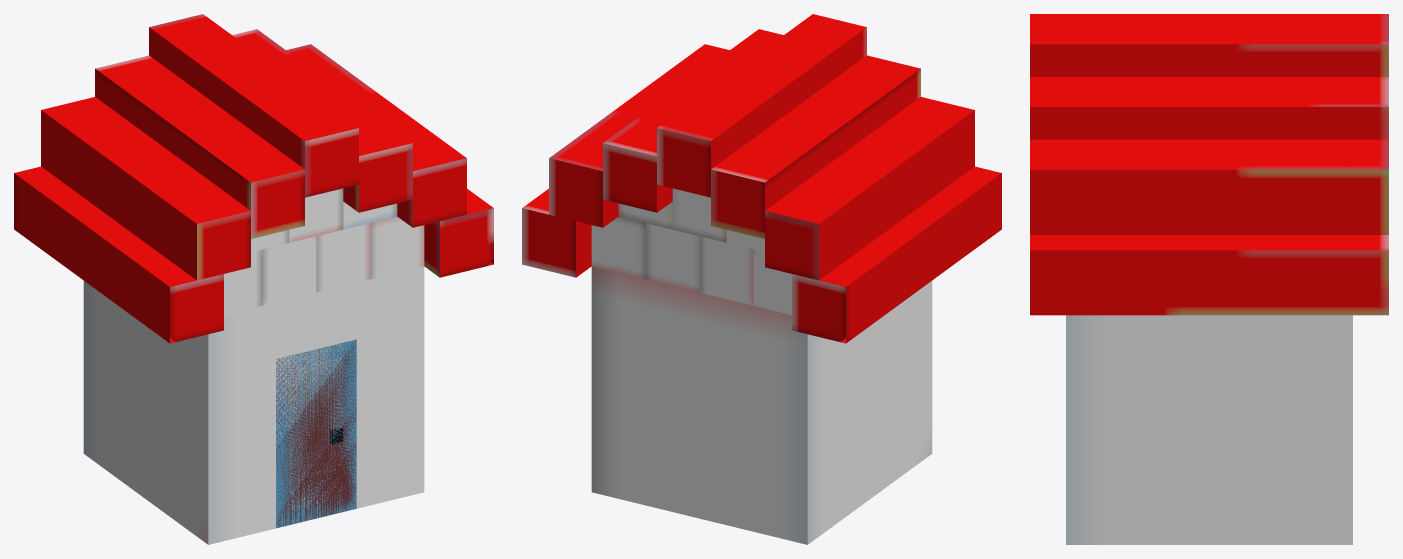
File: house.fbx
3 renders of one model, left to right at view 1: azimuth 30°, elevation 25°; view 2: azimuth 150°, elevation 25°; view 3: azimuth 270°, elevation 25°, orthographic. The views are drawn at different scales.
Visible parts, largest first — view 1: cube, cube_2, cube_1, cube_3, cube_7, cube_15, cube_4, cube_5, cube_6, cube_9, cube_10, cube_8 (+3 smaller); view 2: cube, cube_2, cube_1, cube_3, cube_7, cube_4, cube_5, cube_6, cube_9, cube_10, cube_8, cube_14 (+2 smaller); view 3: cube, cube_5, cube_6, cube_4, cube_7.
Boxes of the visible parts, x1,y1,x2,y2 form: cube: (83, 266, 424, 544); cube_2: (41, 97, 250, 280); cube_1: (14, 166, 223, 343); cube_3: (95, 55, 304, 238); cube_7: (149, 14, 358, 197); cube_15: (276, 339, 356, 528); cube_4: (232, 29, 412, 212); cube_5: (286, 44, 466, 227); cube_6: (424, 188, 493, 277); cube_9: (316, 223, 370, 292); cube_10: (262, 236, 316, 305); cube_8: (370, 216, 424, 279); cube: (591, 266, 932, 544); cube_2: (765, 97, 974, 280); cube_1: (792, 166, 1001, 343); cube_3: (711, 55, 920, 238); cube_7: (657, 14, 866, 197); cube_4: (603, 29, 783, 212); cube_5: (549, 44, 729, 227); cube_6: (522, 188, 591, 277); cube_9: (645, 223, 699, 292); cube_10: (699, 236, 753, 305); cube_8: (591, 216, 645, 279); cube_14: (672, 188, 726, 242); cube: (1066, 315, 1352, 544); cube_5: (1030, 139, 1388, 234); cube_6: (1030, 235, 1388, 315); cube_4: (1030, 77, 1388, 139); cube_7: (1030, 14, 1388, 76).
Size of the model in its own units: 75 by 87.5 by 62.5.
Materials: 2 (2 with a texture image).
